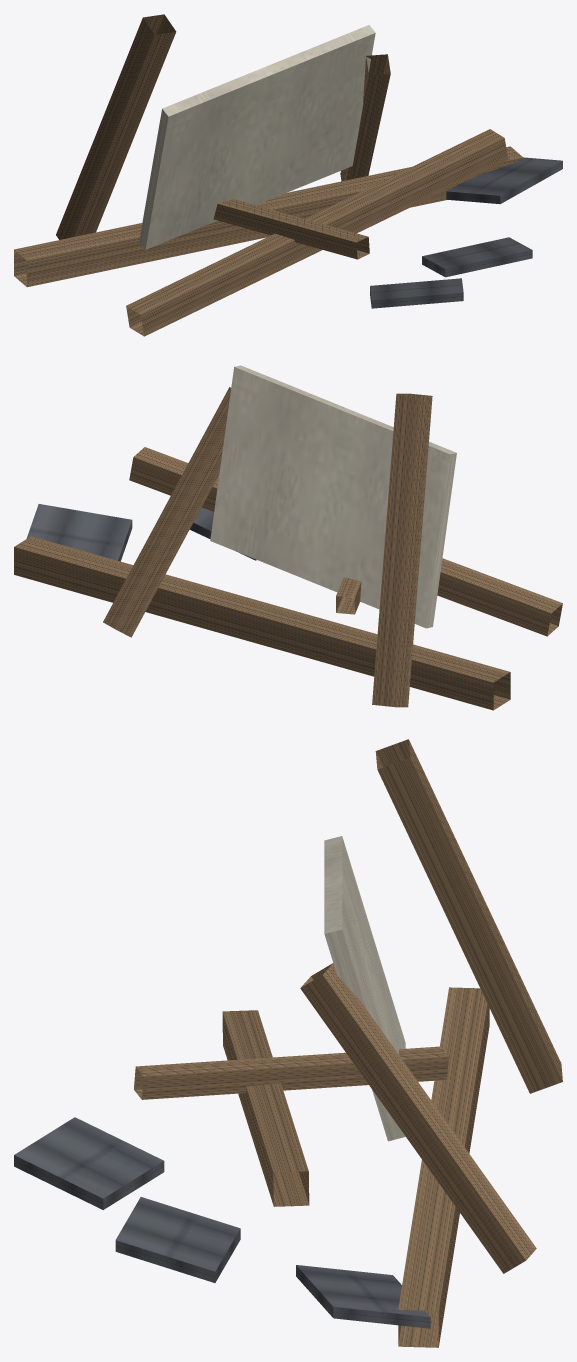
Rendered from debris_tokyo_wood_frame.glb.
3 renders of one model, top to bottom at view 1: azimuth 30°, elevation 25°; view 2: azimuth 150°, elevation 25°; view 3: azimuth 270°, elevation 25°, orthographic. The views are drawn at different scales.
Parts seen in each view (by area): view 1: debris_tokyo_wood_frame; view 2: debris_tokyo_wood_frame; view 3: debris_tokyo_wood_frame.
Boxes of the visible parts, box(x1,y1,x2,y2) form: debris_tokyo_wood_frame: box(14, 14, 562, 336); debris_tokyo_wood_frame: box(14, 365, 562, 710); debris_tokyo_wood_frame: box(14, 739, 562, 1347).
Bounding box in the file's own units: 3.1 × 1.57 × 2.16.
1 material, 1 textured.
